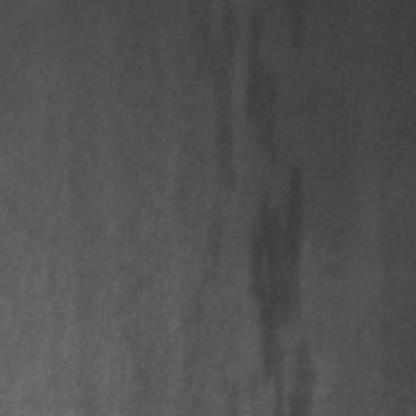inclusion: (246, 0, 318, 410), (187, 0, 239, 320)
